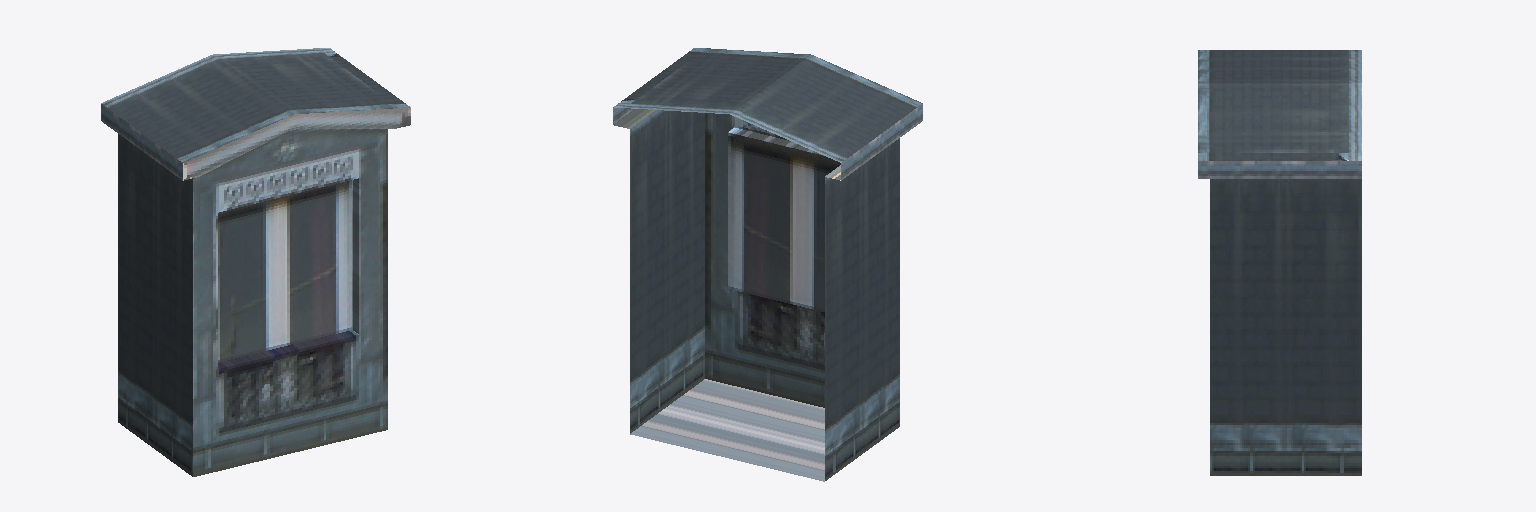
The picture shows the model from 3 angles: view 1: azimuth 30°, elevation 25°; view 2: azimuth 150°, elevation 25°; view 3: azimuth 270°, elevation 25°; orthographic projection.
Parts seen in each view (by area): view 1: comble3:pCube1; view 2: comble3:pCube1; view 3: comble3:pCube1.
Part boxes in pixels (x1,y1,x2,y2): comble3:pCube1: (101,48,410,476); comble3:pCube1: (613,48,922,481); comble3:pCube1: (1198,50,1361,475).
Bounding box in the file's own units: 2.08 × 3 × 1.29.
Materials: 1 (1 with a texture image).